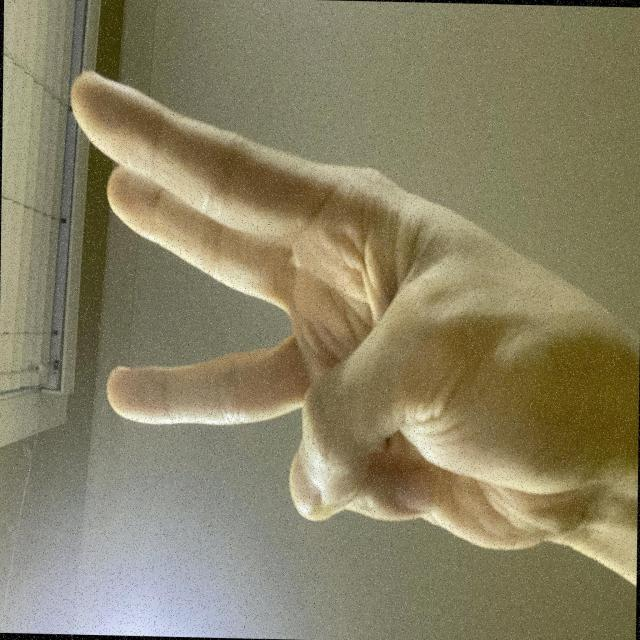W: (60, 73, 435, 640)
